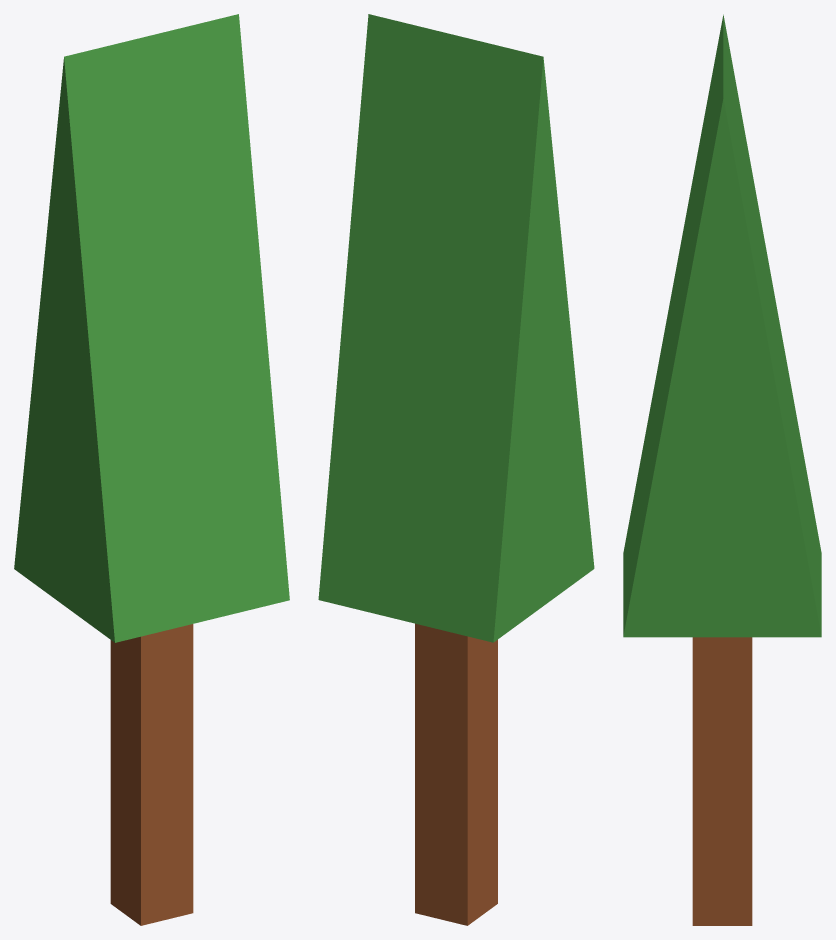
Rendered from tree 2.fbx.
3 renders of one model, left to right at view 1: azimuth 30°, elevation 25°; view 2: azimuth 150°, elevation 25°; view 3: azimuth 270°, elevation 25°, orthographic.
Parts seen in each view (by area): view 1: Cube.002; view 2: Cube.002; view 3: Cube.002.
Boxes of the visible parts, x1,y1,x2,y2 form: Cube.002: (14, 14, 289, 925); Cube.002: (318, 14, 594, 925); Cube.002: (623, 14, 821, 925).
Size of the model in its own units: 100 by 477 by 100.
